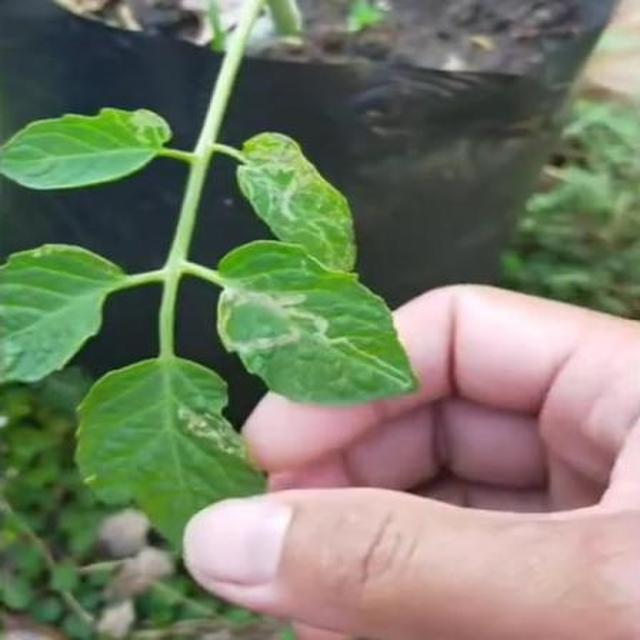Leaf Miner: (122, 117, 452, 640)
